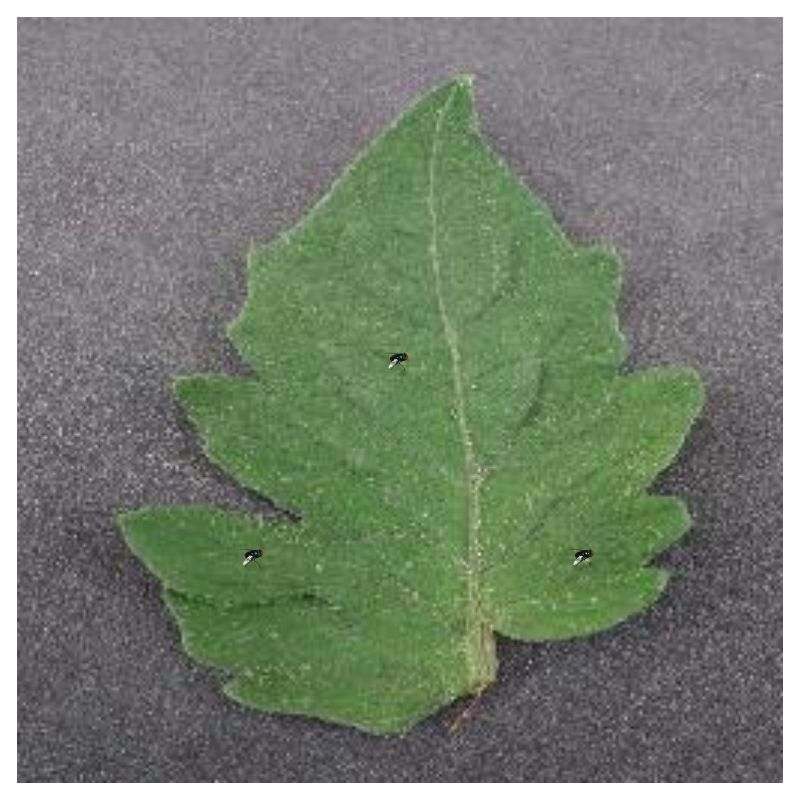liriomyza: (569, 544, 593, 567), (240, 545, 264, 566), (384, 349, 408, 369)
